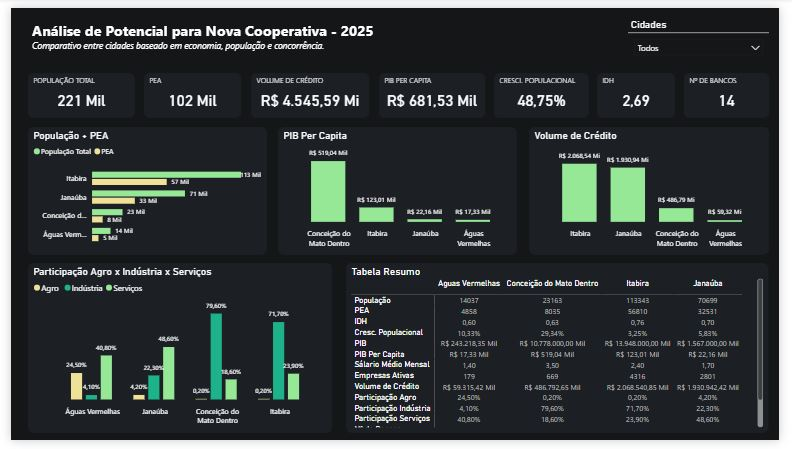

What the dashboard file says about the page in this screenshot:
{"tool":"powerbi","page":{"name":"Página 1","canvas":[1280,720],"ordinal":0},"visuals":[{"type":"textbox","box":[29.2,15.4,640,75.4],"z":0},{"type":"card","title":"POPULAÇÃO TOTAL","fields":{"Values":["Sum(socioeconomico1.População Total)"]},"box":[28.3,108.3,178.3,75],"z":2000},{"type":"card","title":"PEA","fields":{"Values":["Sum(socioeconomico1.PEA)"]},"box":[221.7,108.3,161.7,75],"z":3000},{"type":"card","title":"IDH","fields":{"Values":["Sum(socioeconomico1.IDH)"]},"box":[976.7,108.3,130,75],"z":4000},{"type":"card","title":"PIB PER CAPITA","fields":{"Values":["Sum(socioeconomico1.PIB Per Capita)"]},"box":[613.3,108.3,176.7,75],"z":5000},{"type":"card","title":"VOLUME DE CRÉDITO","fields":{"Values":["Sum(socioeconomico1.Volume de Crédito)"]},"box":[400,108.3,196.7,75],"z":6000},{"type":"card","title":"Nº DE BANCOS","fields":{"Values":["Sum(socioeconomico1.Nº de Agências Bancárias)"]},"box":[1121.7,108.3,141.7,75],"z":7000},{"type":"clusteredBarChart","title":"População + PEA","fields":{"Category":["socioeconomico1.Cidade"],"Y":["Sum(Cidades.População Total)","Sum(Cidades.PEA)"]},"box":[28.3,198.3,398.3,213.3],"z":8000},{"type":"columnChart","title":"PIB Per Capita","fields":{"Category":["socioeconomico1.Cidade"],"Y":["Sum(Cidades.PIB Per Capita)"]},"box":[445,198.3,398.3,213.3],"z":9000},{"type":"columnChart","title":"Volume de Crédito","fields":{"Category":["socioeconomico1.Cidade"],"Y":["Sum(socioeconomico1.Volume de Crédito)"]},"box":[863.3,198.3,400,213.3],"z":10000},{"type":"clusteredColumnChart","title":"Participação Agro x Indústria x Serviços","fields":{"Category":["socioeconomico1.Cidade"],"Y":["Sum(Cidades.Participação Agro )","Sum(Cidades.Participação Indústria)","Sum(Cidades.Participação Serviços )"]},"box":[28.6,425.7,507.1,282.9],"z":11000},{"type":"pivotTable","title":"Tabela Resumo","fields":{"Values":["Sum(socioeconomico1.População Total)","Sum(socioeconomico1.PEA)","Sum(Cidades.IDH)","Sum(Cidades.Crescimento Populacional)","Sum(Cidades.PIB)","Sum(Cidades.PIB Per Capita)","Sum(Cidades.Sálario Médio Mensal)","Sum(Cidades.Nº Empresas Ativas)","Sum(Cidades.Volume de Crédito)","Sum(Cidades.Participação Agro )","Sum(Cidades.Participação Indústria)","Sum(Cidades.Participação Serviços )"],"Columns":["socioeconomico1.Cidade"]},"box":[558.9,425.6,704.4,283.3],"z":12000},{"type":"slicer","title":"Cidades","fields":{"Values":["Cidades.Cidade"]},"box":[1028.3,16.7,235,75],"z":13000},{"type":"card","title":"CRESCI. POPULACIONAL","fields":{"Values":["Sum(Cidades.Crescimento Populacional)"]},"box":[805,108.3,158.3,75],"z":14000}]}

Visuals, with their boxes in screenshot pixels (x1, y1, x2, y2), scaled from the page's 1280x720 canvas onto the 792x449 screenshot:
textbox: [x1=18, y1=10, x2=414, y2=57]
"POPULAÇÃO TOTAL" card: [x1=18, y1=68, x2=128, y2=114]
"PEA" card: [x1=137, y1=68, x2=237, y2=114]
"IDH" card: [x1=604, y1=68, x2=685, y2=114]
"PIB PER CAPITA" card: [x1=379, y1=68, x2=489, y2=114]
"VOLUME DE CRÉDITO" card: [x1=248, y1=68, x2=369, y2=114]
"Nº DE BANCOS" card: [x1=694, y1=68, x2=782, y2=114]
"População + PEA" clusteredBarChart: [x1=18, y1=124, x2=264, y2=257]
"PIB Per Capita" columnChart: [x1=275, y1=124, x2=522, y2=257]
"Volume de Crédito" columnChart: [x1=534, y1=124, x2=782, y2=257]
"Participação Agro x Indústria x Serviços" clusteredColumnChart: [x1=18, y1=265, x2=331, y2=442]
"Tabela Resumo" pivotTable: [x1=346, y1=265, x2=782, y2=442]
"Cidades" slicer: [x1=636, y1=10, x2=782, y2=57]
"CRESCI. POPULACIONAL" card: [x1=498, y1=68, x2=596, y2=114]
